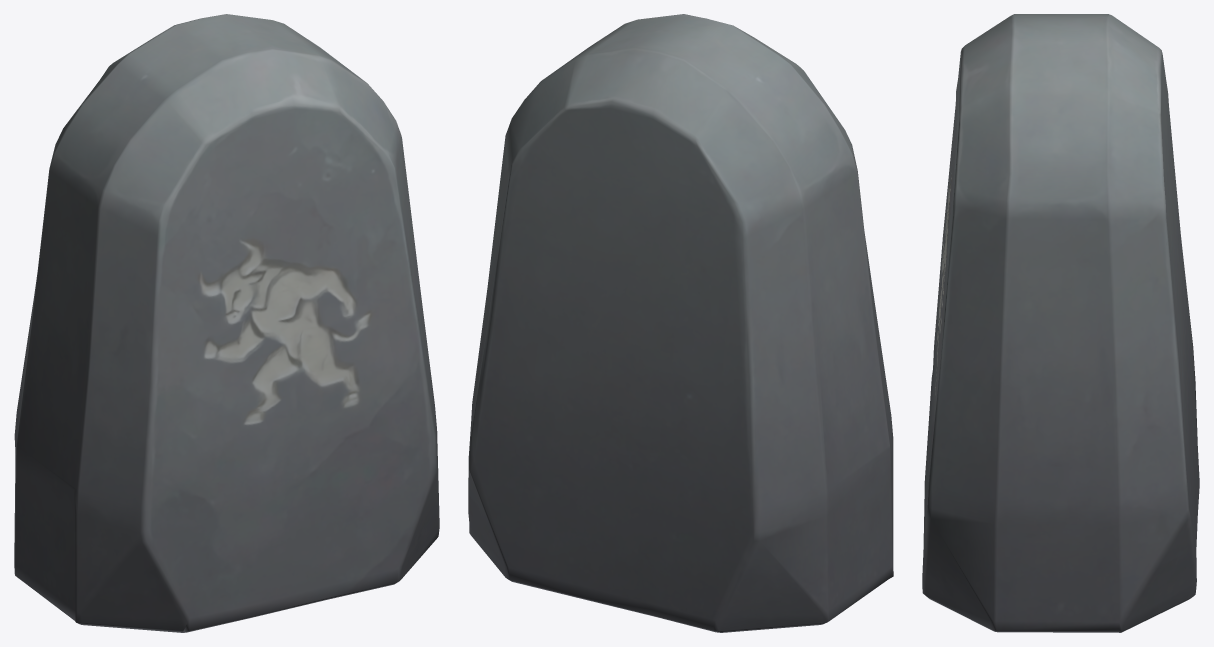
File: Meshy_AI_model_20261128_texture.fbx
3 views of the same model, side by side, from view 1: azimuth 30°, elevation 25°; view 2: azimuth 150°, elevation 25°; view 3: azimuth 270°, elevation 25° (orthographic).
Visible parts, largest first — view 1: geometry_0; view 2: geometry_0; view 3: geometry_0.
Boxes of the visible parts, <box> form: geometry_0: <box>14,14,439,632</box>; geometry_0: <box>468,14,893,632</box>; geometry_0: <box>922,14,1199,632</box>.
Size of the model in its own units: 72.37 by 100 by 48.44.
1 material, 1 textured.
